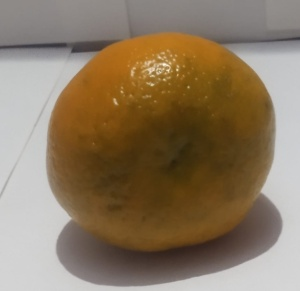BAD: (45, 33, 281, 258)
